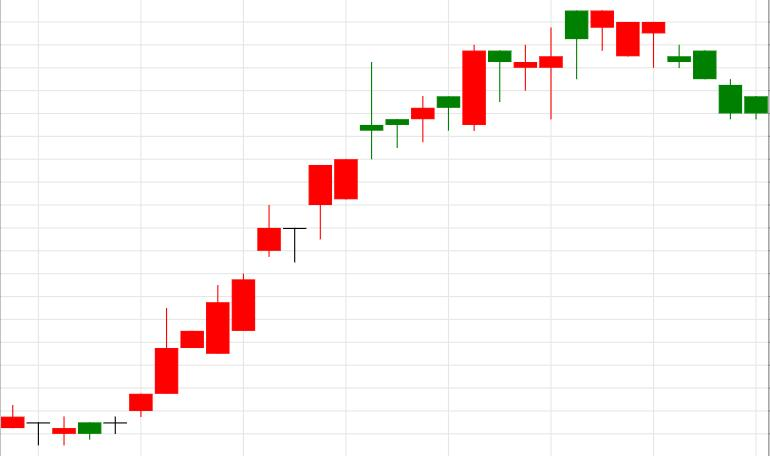hanging_man_fall: (129, 11, 588, 417)
